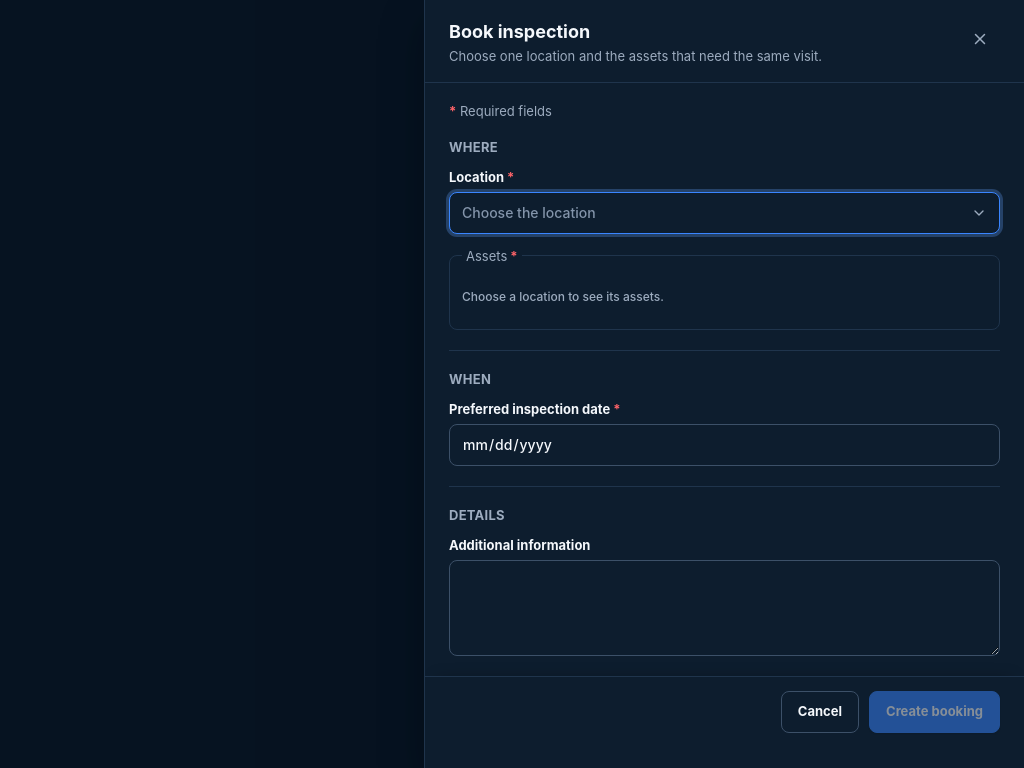
Test: new booking › lists only the chosen location's assets and selects none of them
Click the dropdown named "Booking location": (529, 213) [449, 192, 1000, 234]
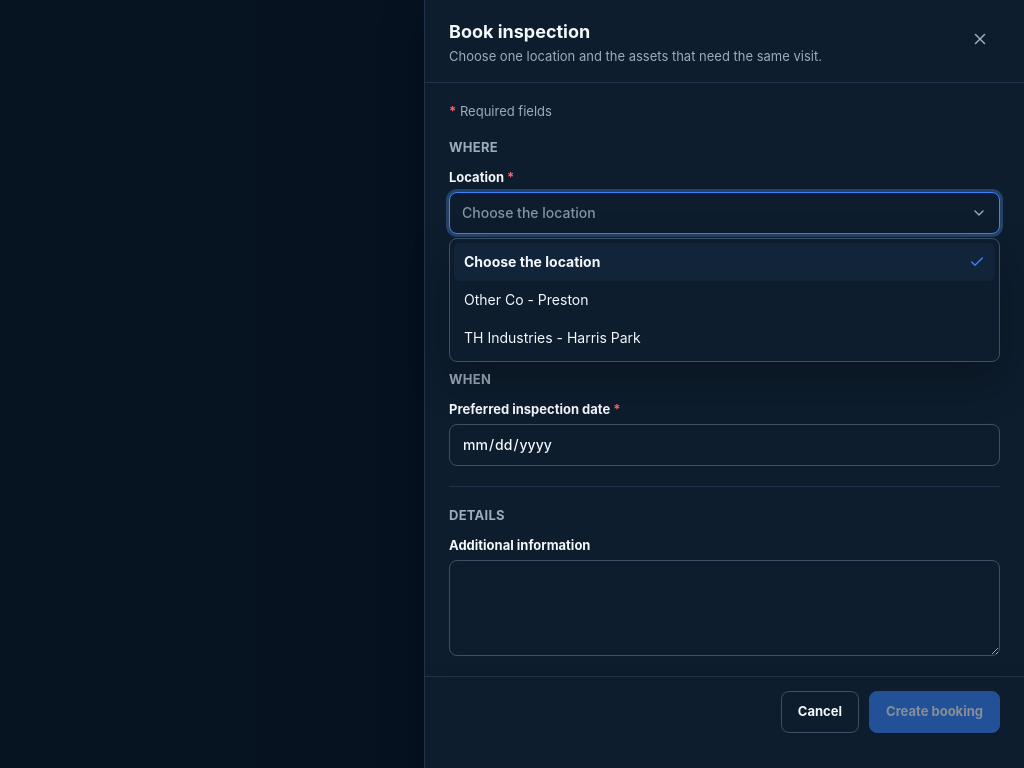
Click the option "TH Industries - Harris Park": (552, 338) [464, 329, 641, 346]
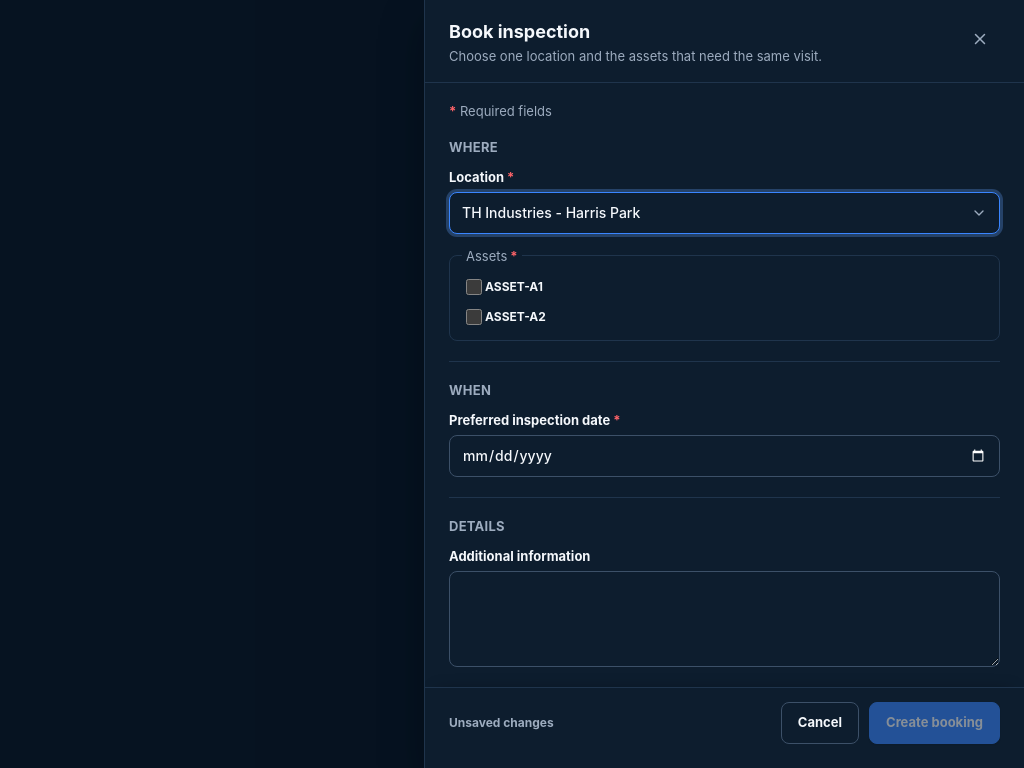
Expected: the button "Create booking" is disabled, [869, 702, 1000, 744]
Expected: the checkbox labelled "ASSET-A1" is not checked, [466, 279, 482, 295]
Expected: the checkbox labelled "ASSET-A2" is not checked, [466, 309, 482, 325]
